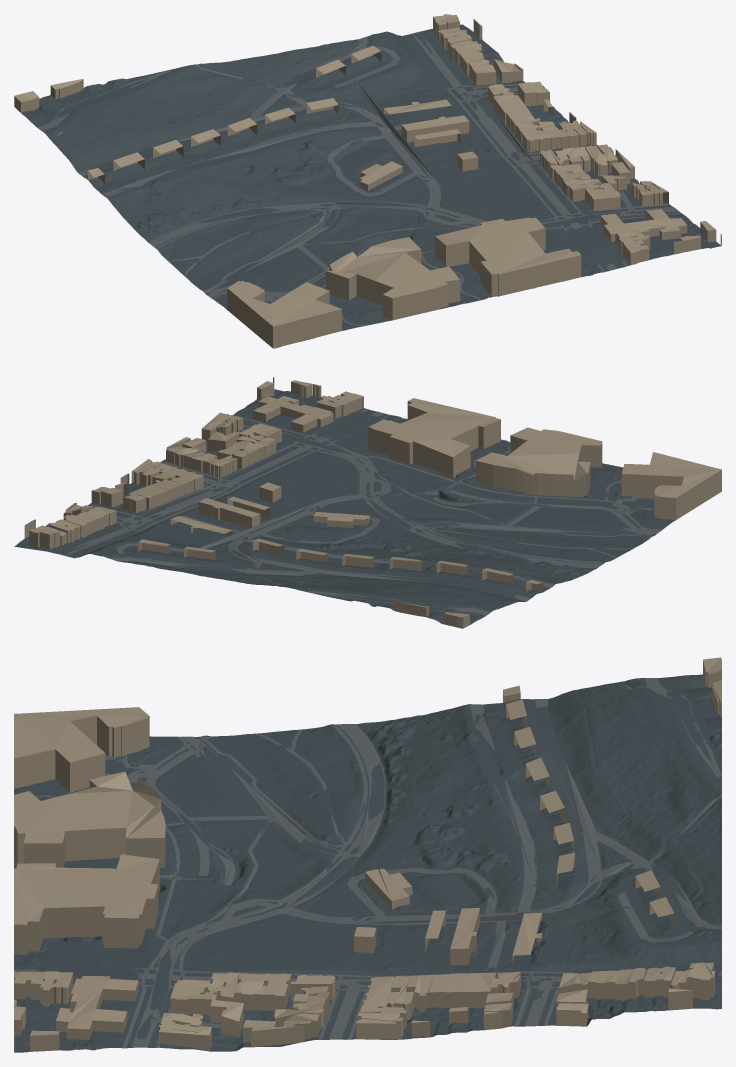
File: epsg26910-1428-10894.lod0.glb
3 renders of one model, top to bottom at view 1: azimuth 30°, elevation 25°; view 2: azimuth 150°, elevation 25°; view 3: azimuth 270°, elevation 25°, orthographic. The views are drawn at different scales.
Visible parts, largest first — view 1: epsg26910-1428-10894-lod0; view 2: epsg26910-1428-10894-lod0; view 3: epsg26910-1428-10894-lod0.
Boxes of the visible parts, bbox=[...] form: epsg26910-1428-10894-lod0: bbox=[14, 14, 721, 348]; epsg26910-1428-10894-lod0: bbox=[14, 377, 721, 628]; epsg26910-1428-10894-lod0: bbox=[14, 657, 721, 1052].
Bounding box in the file's own units: 384 × 60.59 × 384.
